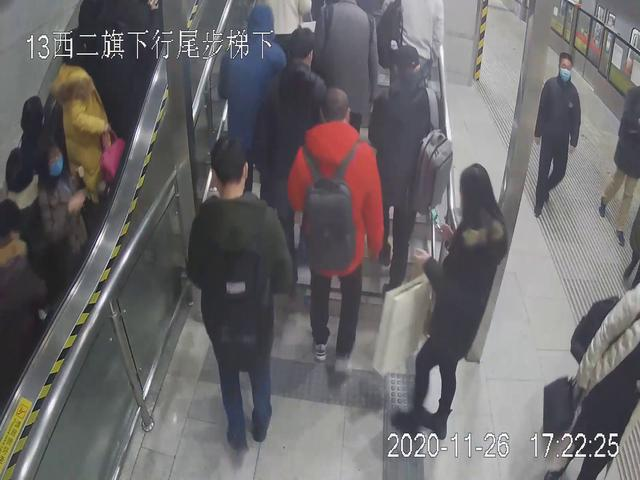person: (182, 137, 301, 452), (288, 90, 377, 380), (414, 158, 496, 439), (364, 42, 444, 287), (209, 7, 288, 160), (530, 49, 587, 217)
